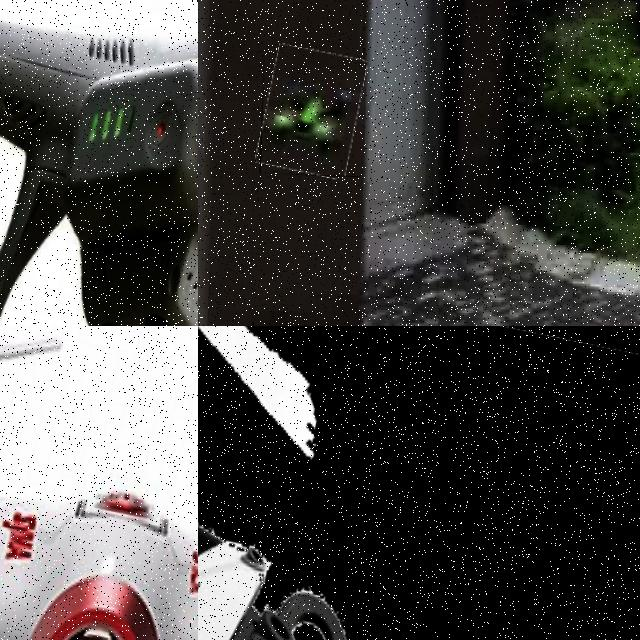drone: (198, 326, 640, 640), (0, 0, 198, 326), (0, 326, 198, 640), (260, 46, 364, 177)
